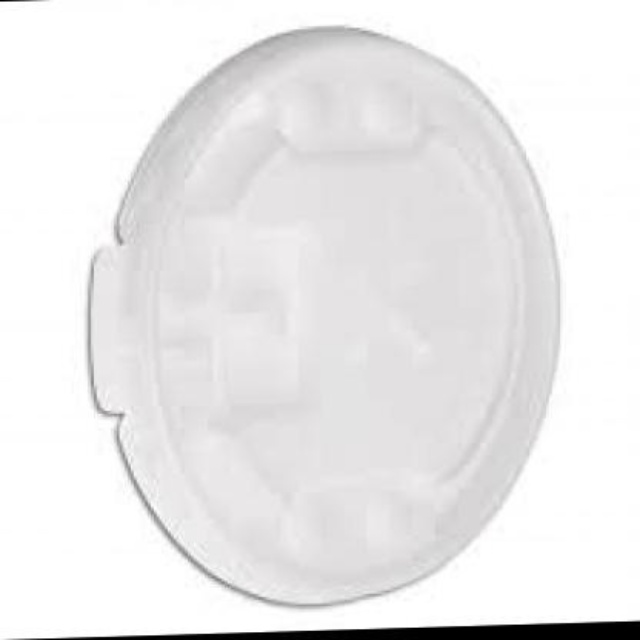trash: (89, 28, 557, 603)
